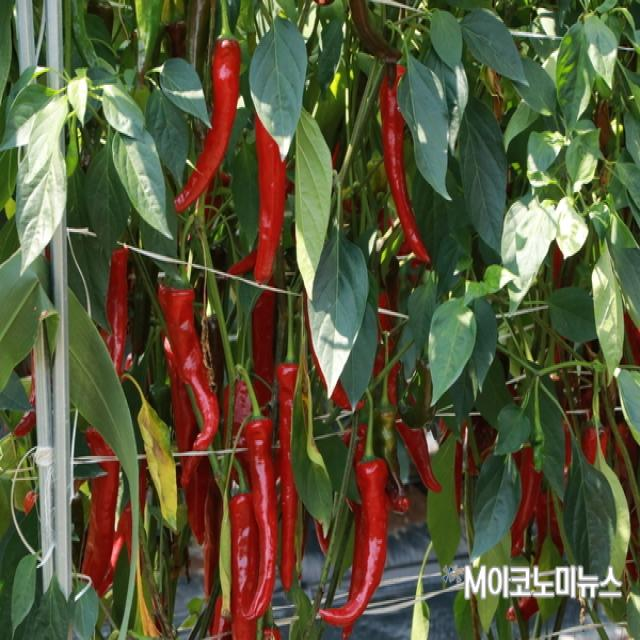chili: (319, 459, 389, 625), (175, 38, 241, 211), (158, 285, 220, 449), (380, 66, 430, 262), (245, 418, 278, 618), (254, 114, 286, 282), (276, 364, 299, 590), (81, 461, 118, 590), (229, 493, 259, 640), (100, 248, 129, 374), (511, 446, 542, 556), (396, 420, 440, 492), (86, 429, 111, 456), (181, 458, 196, 485)
